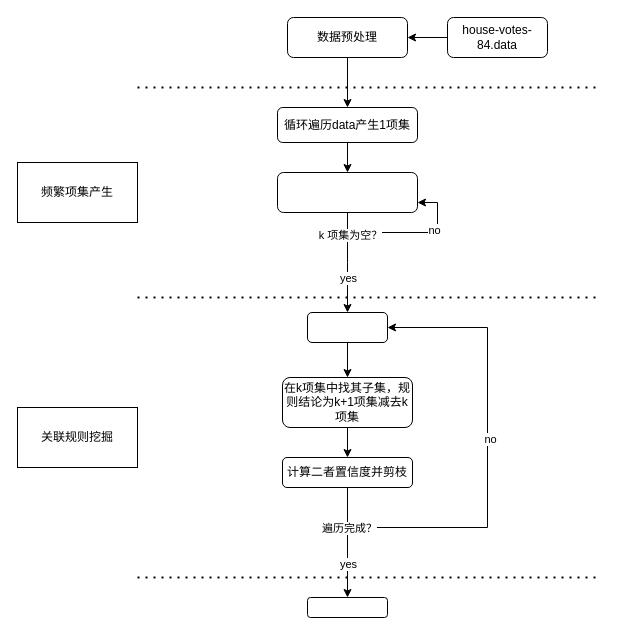
The diagram is 617 pixels wide and 635 high, and some of its shapes have lost their labels. The shapes that lost their labels are listed below. From the top down, each one's centre as x and y in pixels, then its label:
At point (347, 192): "Fk-1 * Fk-1 产生 k 项集".
At point (347, 327): "取一k+1项集".
At point (347, 607): "结果输出".
